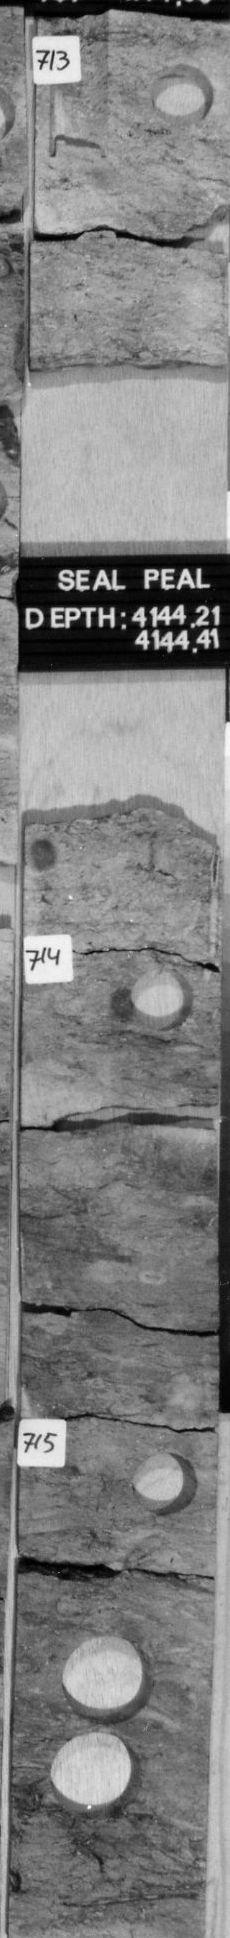hplug: (142, 58, 223, 130), (126, 1444, 200, 1520), (122, 960, 198, 1032)
scal: (42, 1724, 143, 1824), (54, 1628, 156, 1725)
vplug: (45, 16, 124, 164)
